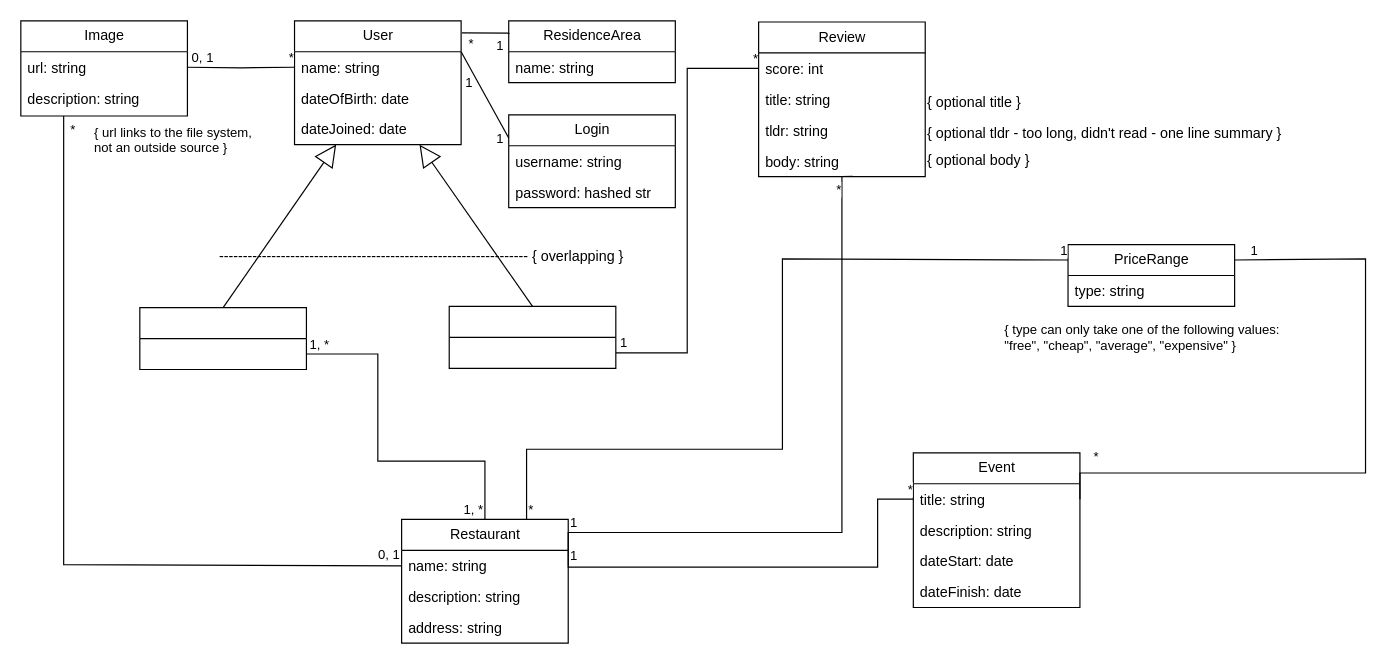
This 1388x668 diagram has some shape labels left out. Each missing label, with the centre of its shape:
Owner: the point at 222,337
Reviewer: the point at 532,336
